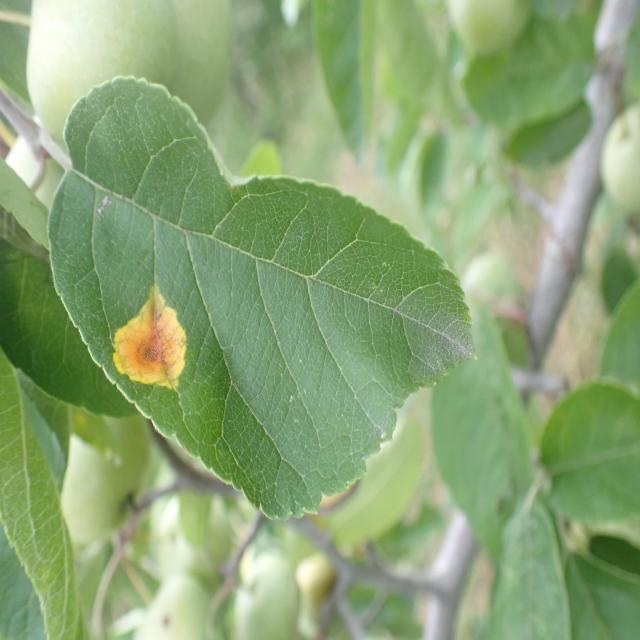rust: (47, 75, 478, 520)
